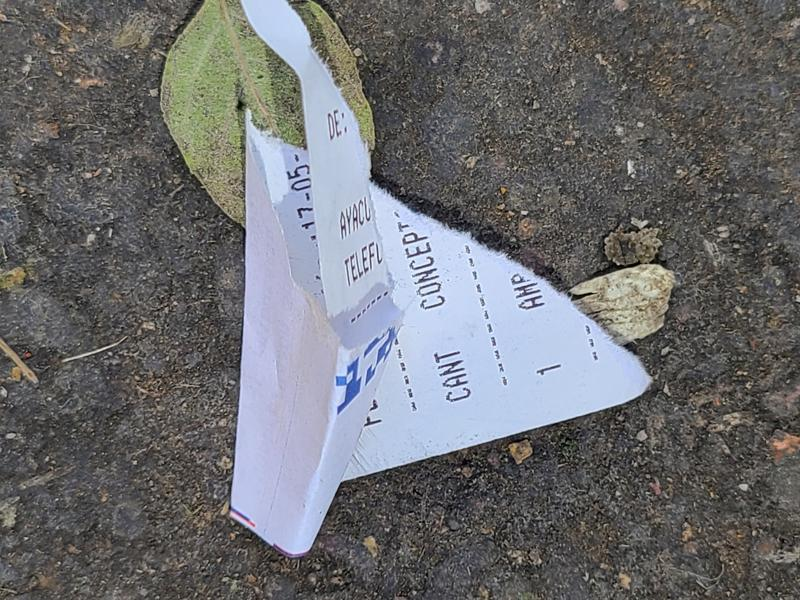papel: (229, 0, 652, 557)
